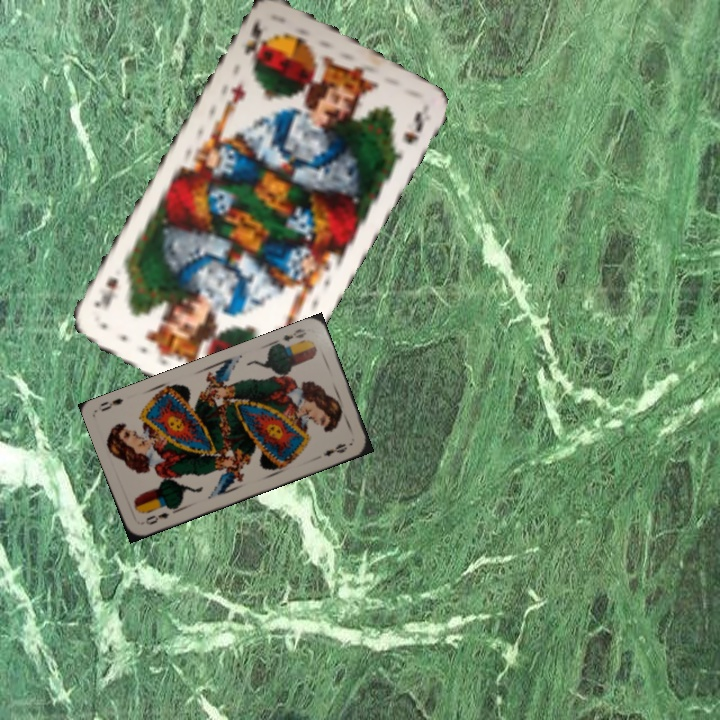EO: (271, 324, 309, 351), (141, 508, 172, 528)
SK: (239, 14, 267, 64)
